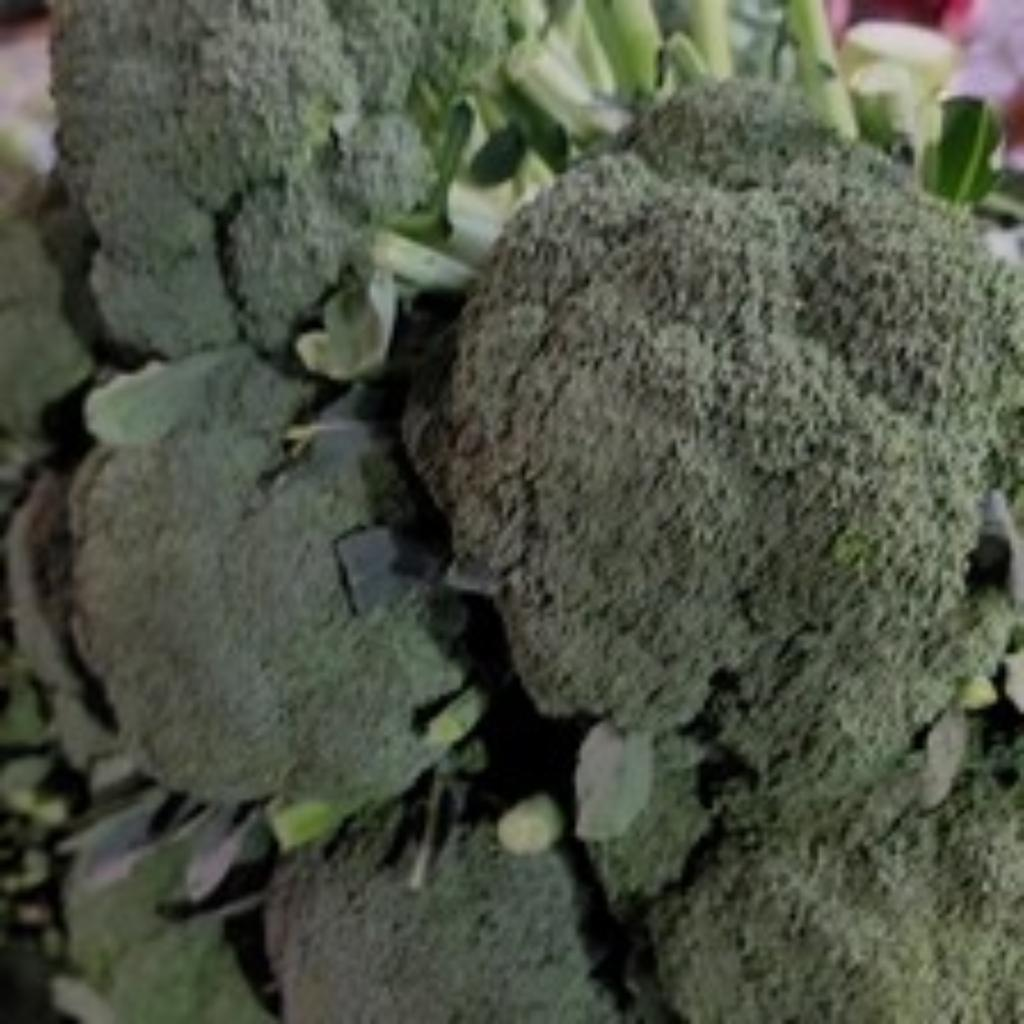Broccoli: (404, 84, 1022, 775), (404, 84, 1020, 773), (59, 0, 504, 807), (70, 348, 466, 805), (60, 0, 502, 357), (60, 1, 500, 357), (644, 724, 1024, 1024), (644, 724, 1024, 1024), (268, 816, 622, 1024), (268, 816, 622, 1024)
